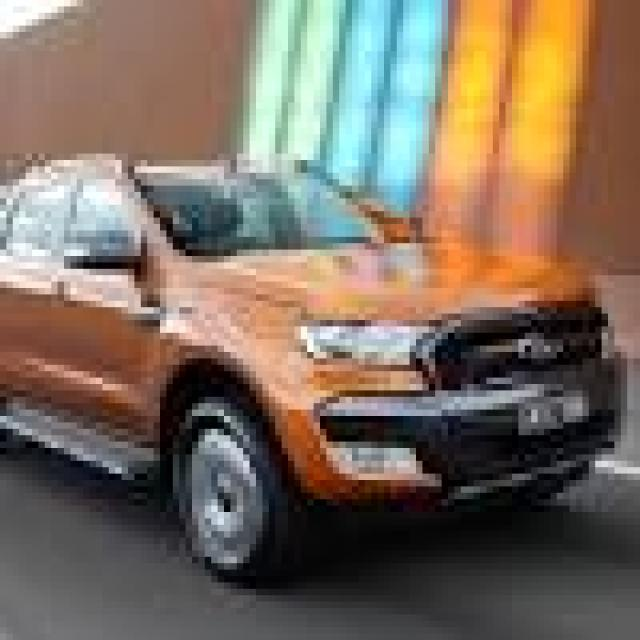Pickup Trucks: (6, 134, 628, 589)
